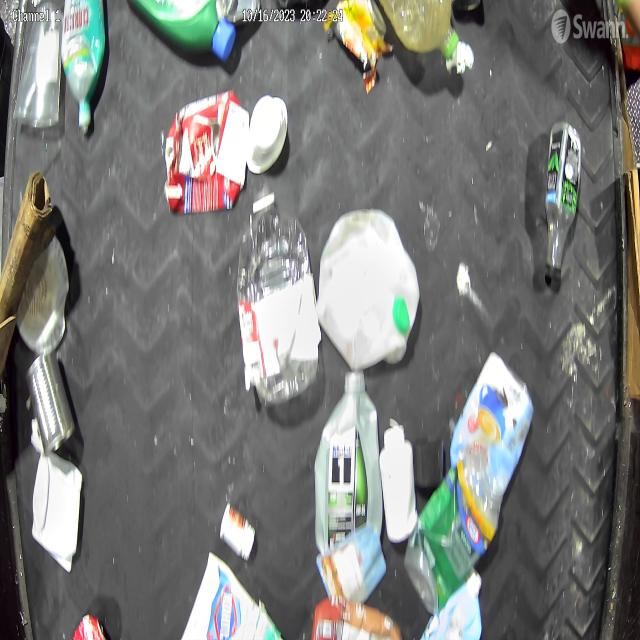can: (26, 348, 76, 456), (72, 611, 109, 640)
milk_jug: (316, 207, 420, 371)
non_white_jug: (314, 371, 382, 557), (129, 0, 236, 61)
plastic_bottle: (236, 184, 320, 403), (544, 120, 582, 282)
